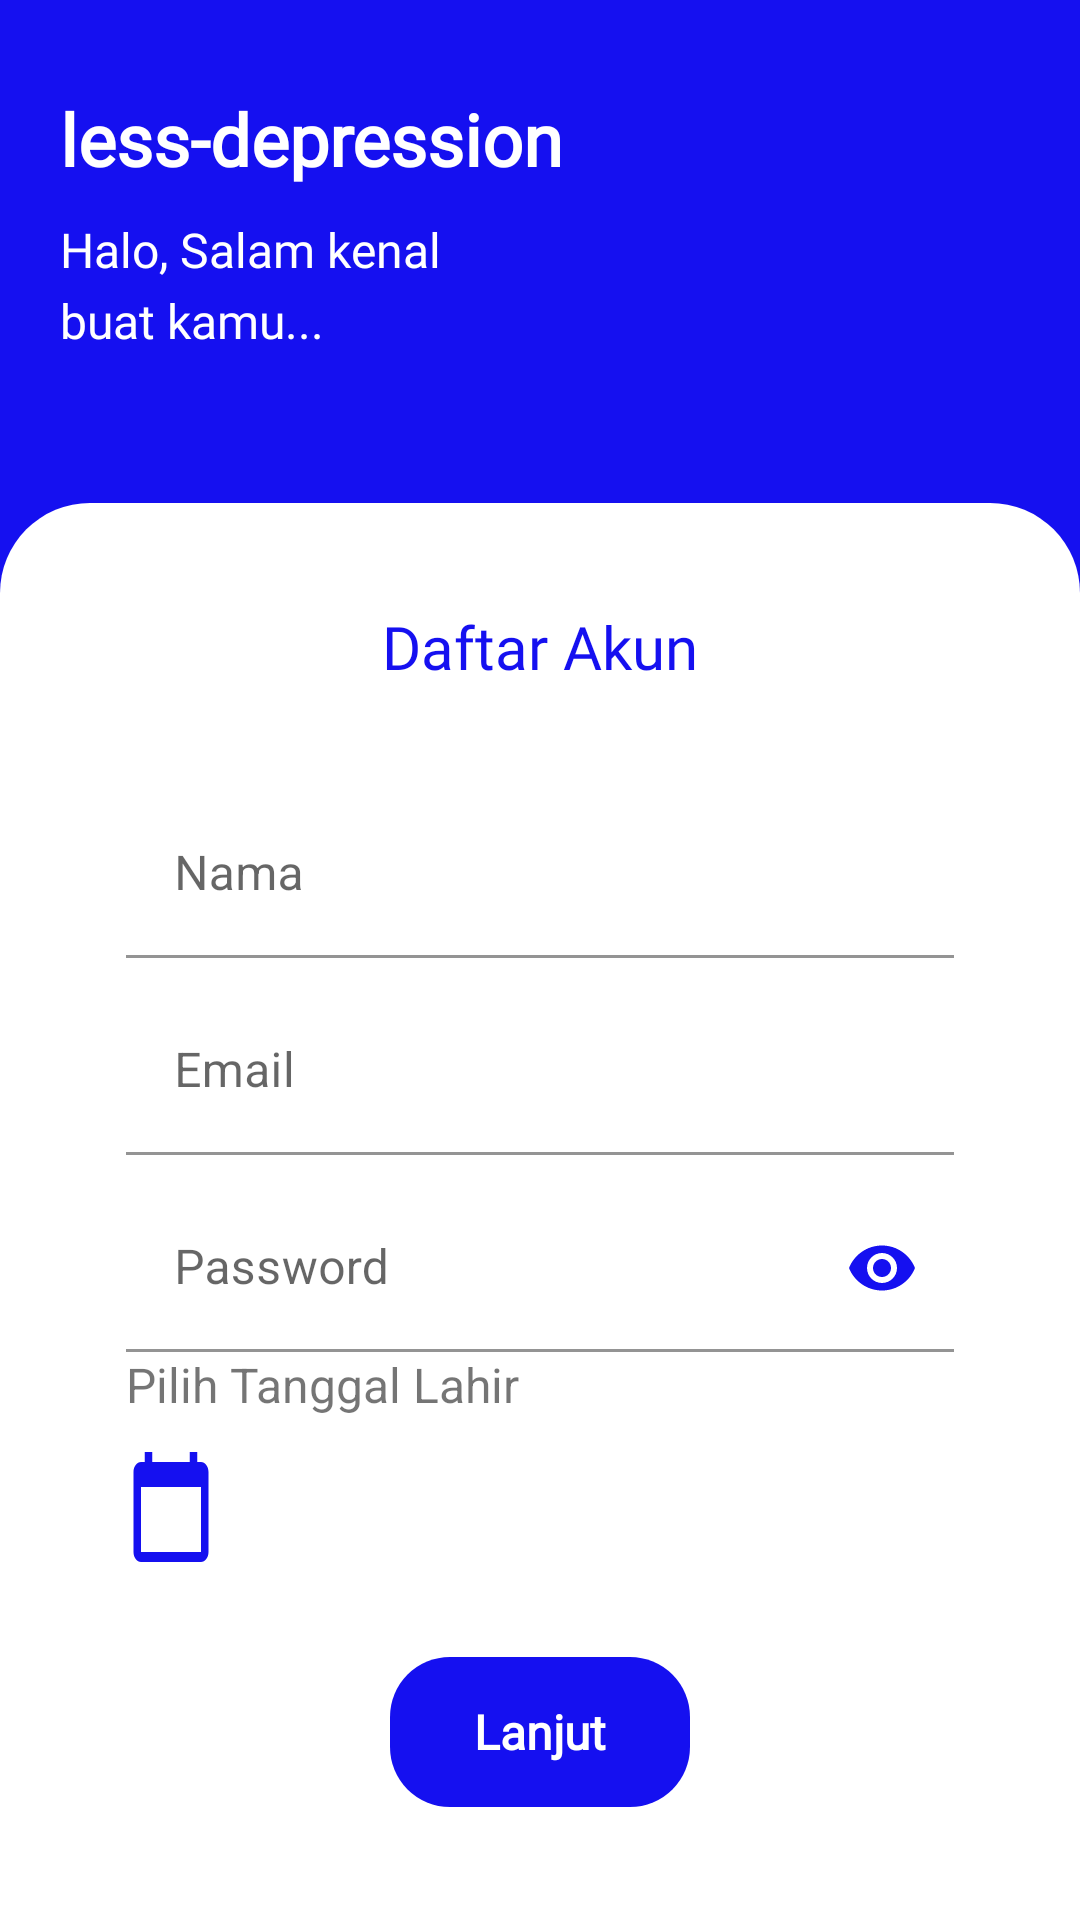

Screen size 1080 × 1920. Icon name, then its box in pixels as (x1, y1, x2, y2):
calendar: (133, 1452, 209, 1562)
